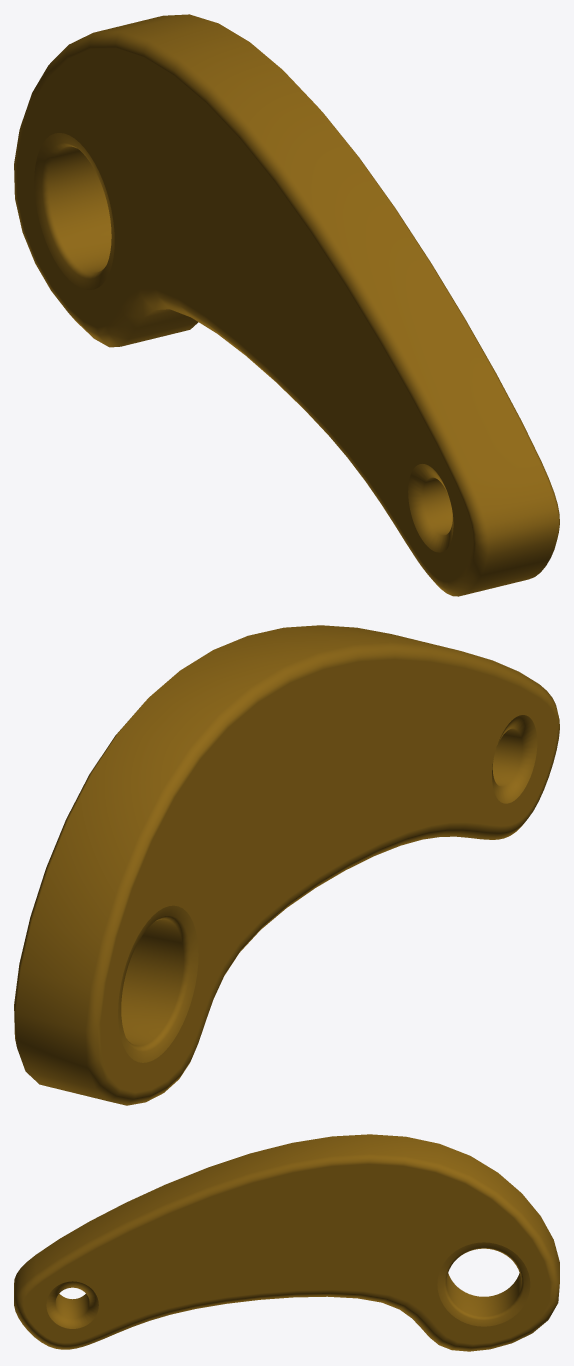
File: Bike.obj
The picture shows the model from 3 angles, top to bottom: view 1: azimuth 30°, elevation 25°; view 2: azimuth 150°, elevation 25°; view 3: azimuth 270°, elevation 25°; orthographic projection. The views are drawn at different scales.
Visible parts, largest first — view 1: bevelPolygon1; view 2: bevelPolygon1; view 3: bevelPolygon1.
Boxes of the visible parts, x1,y1,x2,y2 form: bevelPolygon1: (14, 14, 559, 596); bevelPolygon1: (14, 625, 559, 1105); bevelPolygon1: (14, 1134, 559, 1351).
Size of the model in its own units: 1.2 by 4.69 by 11.74.
